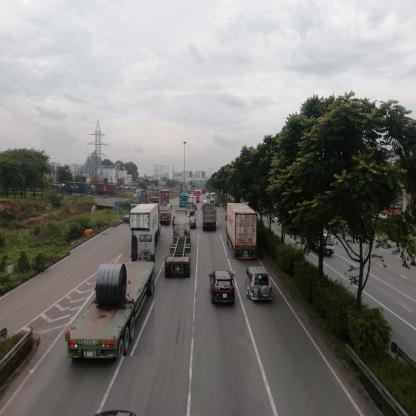bus: (180, 195, 188, 205)
car: (248, 268, 273, 301), (210, 272, 235, 304), (192, 217, 198, 229)
container: (71, 229, 155, 358), (166, 212, 191, 279), (228, 204, 256, 260), (132, 205, 161, 232), (91, 186, 120, 199), (58, 183, 88, 195), (162, 190, 170, 203), (134, 190, 144, 200)
truck: (204, 204, 218, 235), (162, 203, 171, 223)
